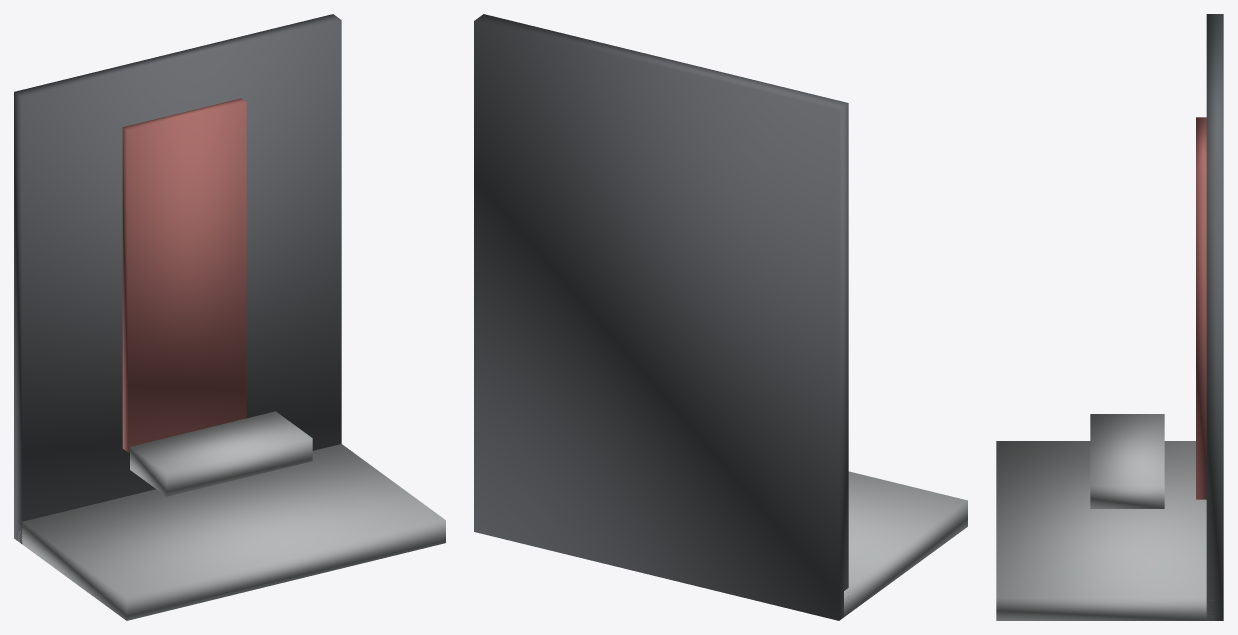
The model's file is roof_access_hatch_stair_08.glb.
3 views of the same model, side by side, from view 1: azimuth 30°, elevation 25°; view 2: azimuth 150°, elevation 25°; view 3: azimuth 270°, elevation 25° (orthographic). The views are drawn at different scales.
Visible parts, largest first — view 1: world; view 2: world; view 3: world.
Boxes of the visible parts, x1,y1,x2,y2 form: world: [14, 14, 445, 620]; world: [474, 14, 967, 620]; world: [996, 14, 1223, 620].
Bounding box in the file's own units: 1.75 × 2.34 × 1.07.
